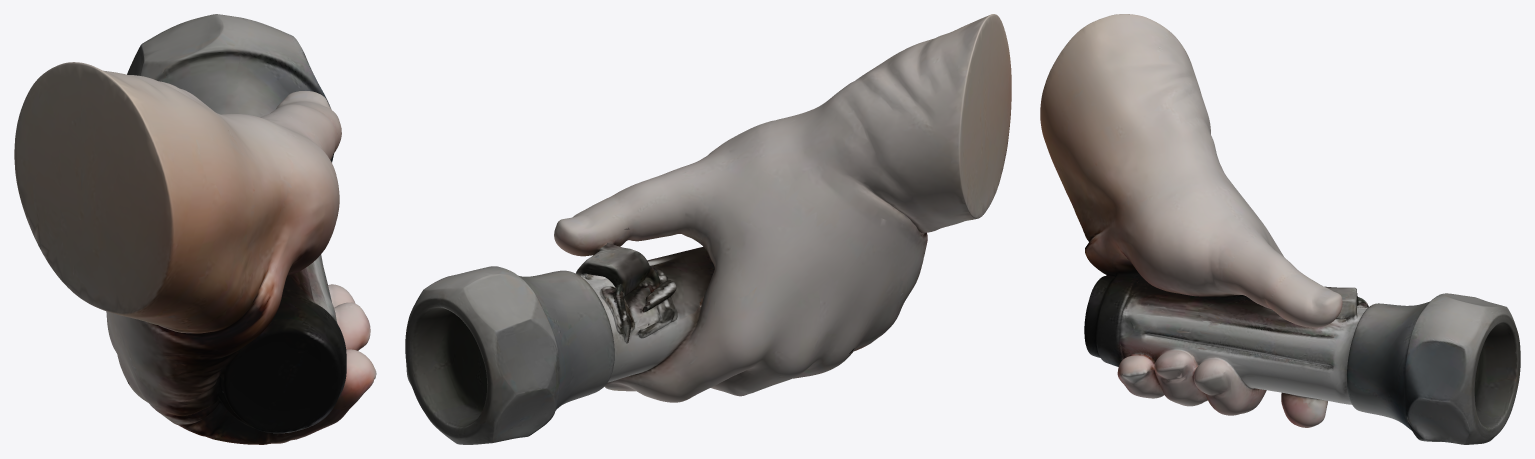
File: Flashlight.fbx
3 renders of one model, left to right at view 1: azimuth 30°, elevation 25°; view 2: azimuth 150°, elevation 25°; view 3: azimuth 270°, elevation 25°, orthographic. The views are drawn at different scales.
Parts seen in each view (by area): view 1: tripo_node_c0fddf73; view 2: tripo_node_c0fddf73; view 3: tripo_node_c0fddf73.
Part boxes in pixels (box(x1,y1,x2,y2)): tripo_node_c0fddf73: box(14, 14, 376, 444); tripo_node_c0fddf73: box(405, 14, 1011, 444); tripo_node_c0fddf73: box(1040, 14, 1520, 444).
Bounding box in the file's own units: 81.05 × 97.98 × 70.33.
1 material, 1 textured.
